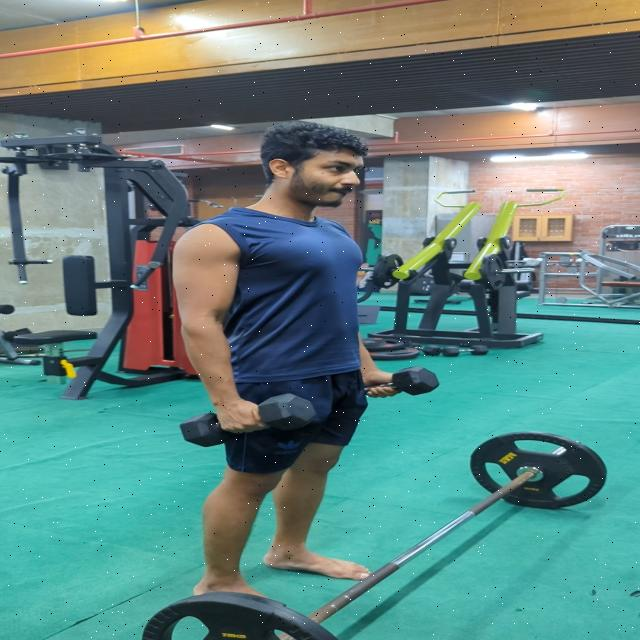Normal_DumbbellBicepCurls: (161, 119, 434, 610)
